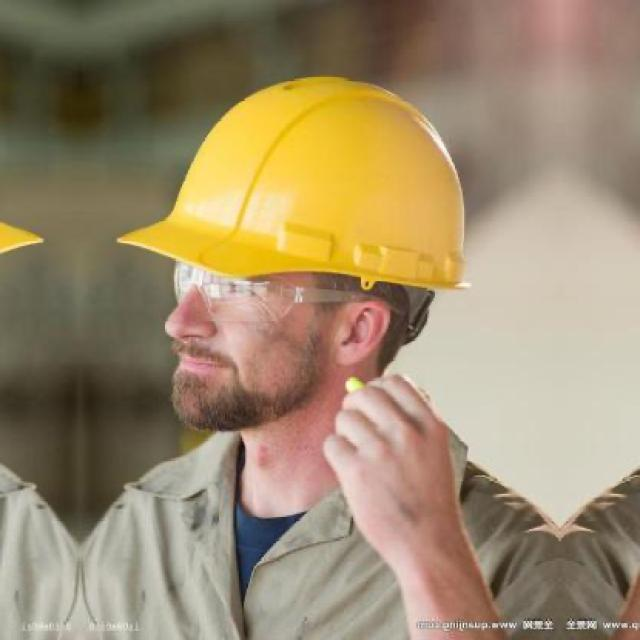con casco: (112, 85, 491, 502)
